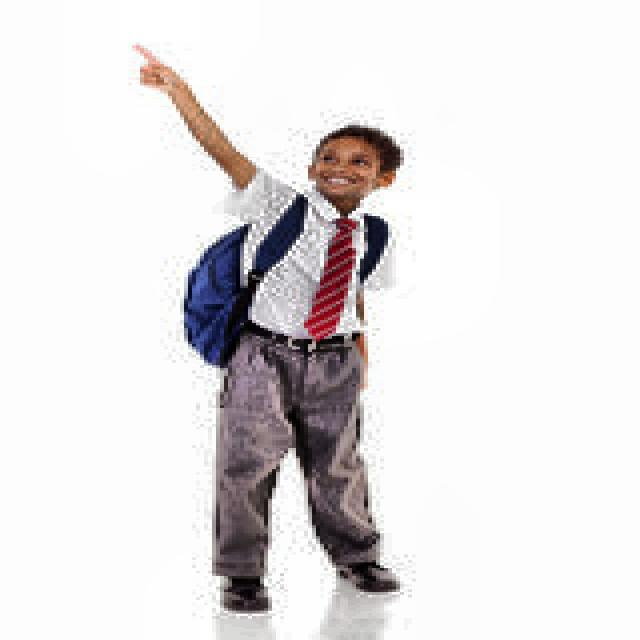Human: (92, 29, 518, 608)
